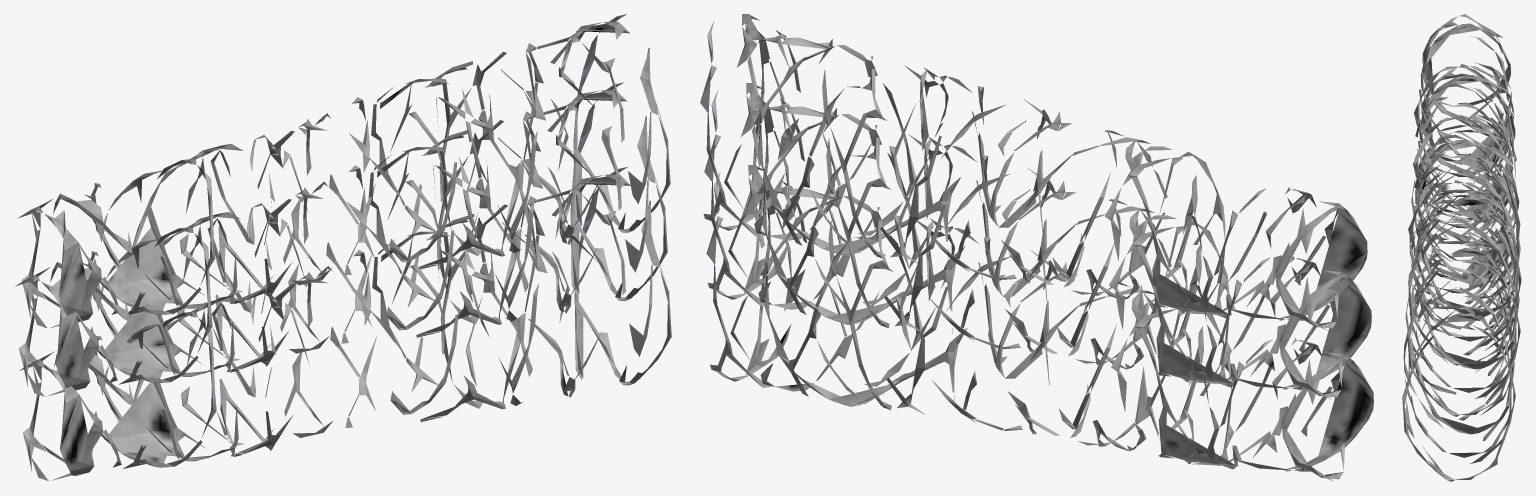
Rendered from kawat_berduri_1.glb.
3 views of the same model, side by side, from view 1: azimuth 30°, elevation 25°; view 2: azimuth 150°, elevation 25°; view 3: azimuth 270°, elevation 25° (orthographic). The views are drawn at different scales.
Visible parts, largest first — view 1: tripo_node_8da9dd7f; view 2: tripo_node_8da9dd7f; view 3: tripo_node_8da9dd7f.
Part boxes in pixels (x1,y1,x2,y2): tripo_node_8da9dd7f: [15, 14, 671, 480]; tripo_node_8da9dd7f: [700, 14, 1373, 481]; tripo_node_8da9dd7f: [1402, 14, 1521, 481].
Bounding box in the file's own units: 82.05 × 46.27 × 17.78.
1 material, 1 textured.
